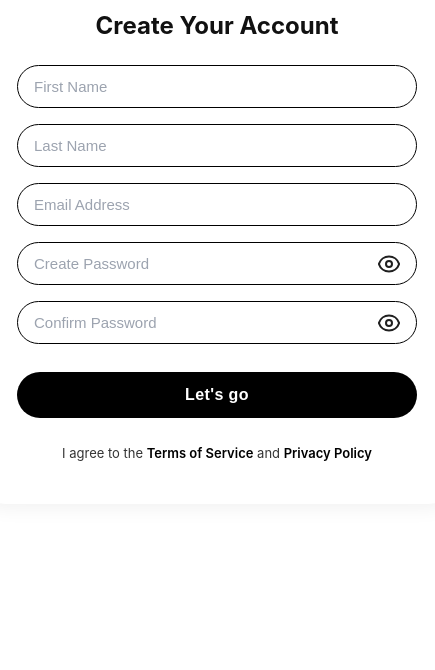
RegistrationForm › shows FAILURE state when submitting empty form
Click submit with empty form
Click the button "Let's go". click: (217, 395)
box: [17,372,417,418]
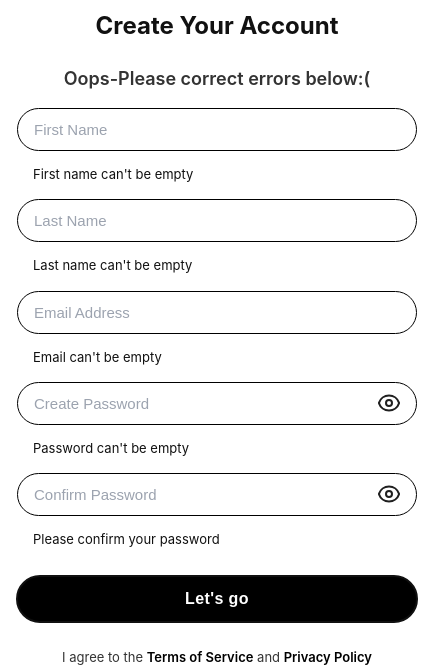
Expected: the text "Oops-Please correct errors below:(" is shown, [64,68,370,89]
